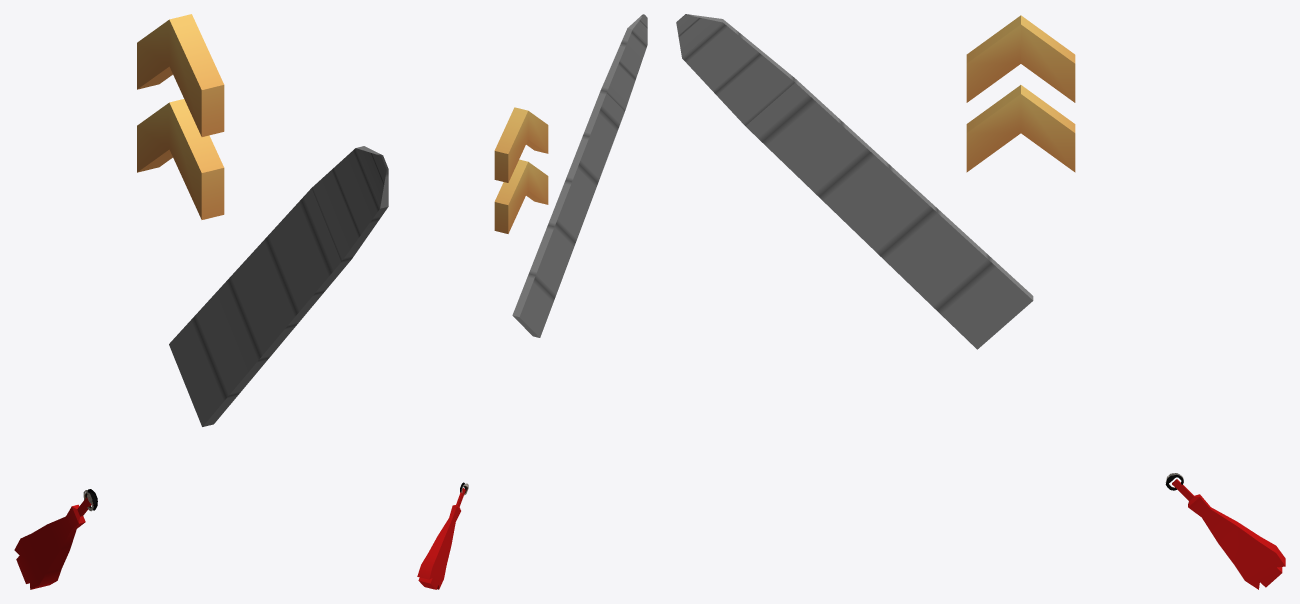
File: Atk buff.fbx
3 renders of one model, left to right at view 1: azimuth 30°, elevation 25°; view 2: azimuth 150°, elevation 25°; view 3: azimuth 270°, elevation 25°, orthographic. The views are drawn at different scales.
Parts seen in each view (by area): view 1: atk buff; view 2: atk buff; view 3: atk buff.
Part boxes in pixels (x1,y1,x2,y2): atk buff: (14, 14, 388, 589); atk buff: (417, 14, 647, 589); atk buff: (676, 14, 1285, 589).
Size of the model in its own units: 0.0484 by 0.6586 by 0.6364.
